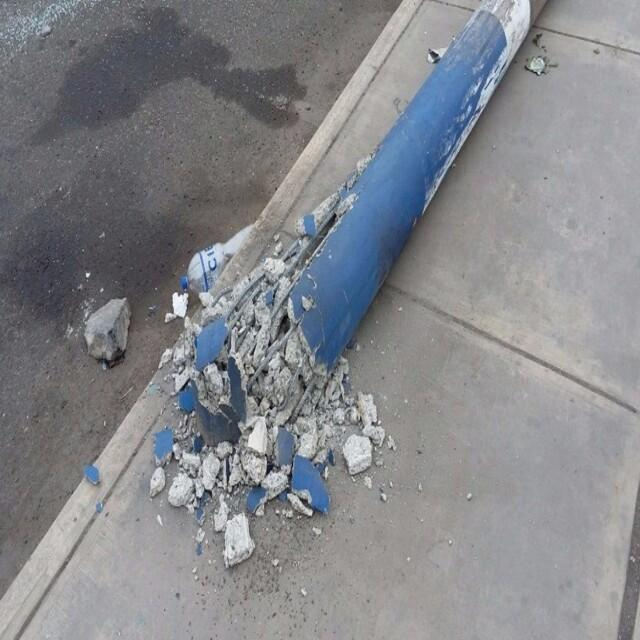Inclined Pole: (157, 0, 550, 548)
